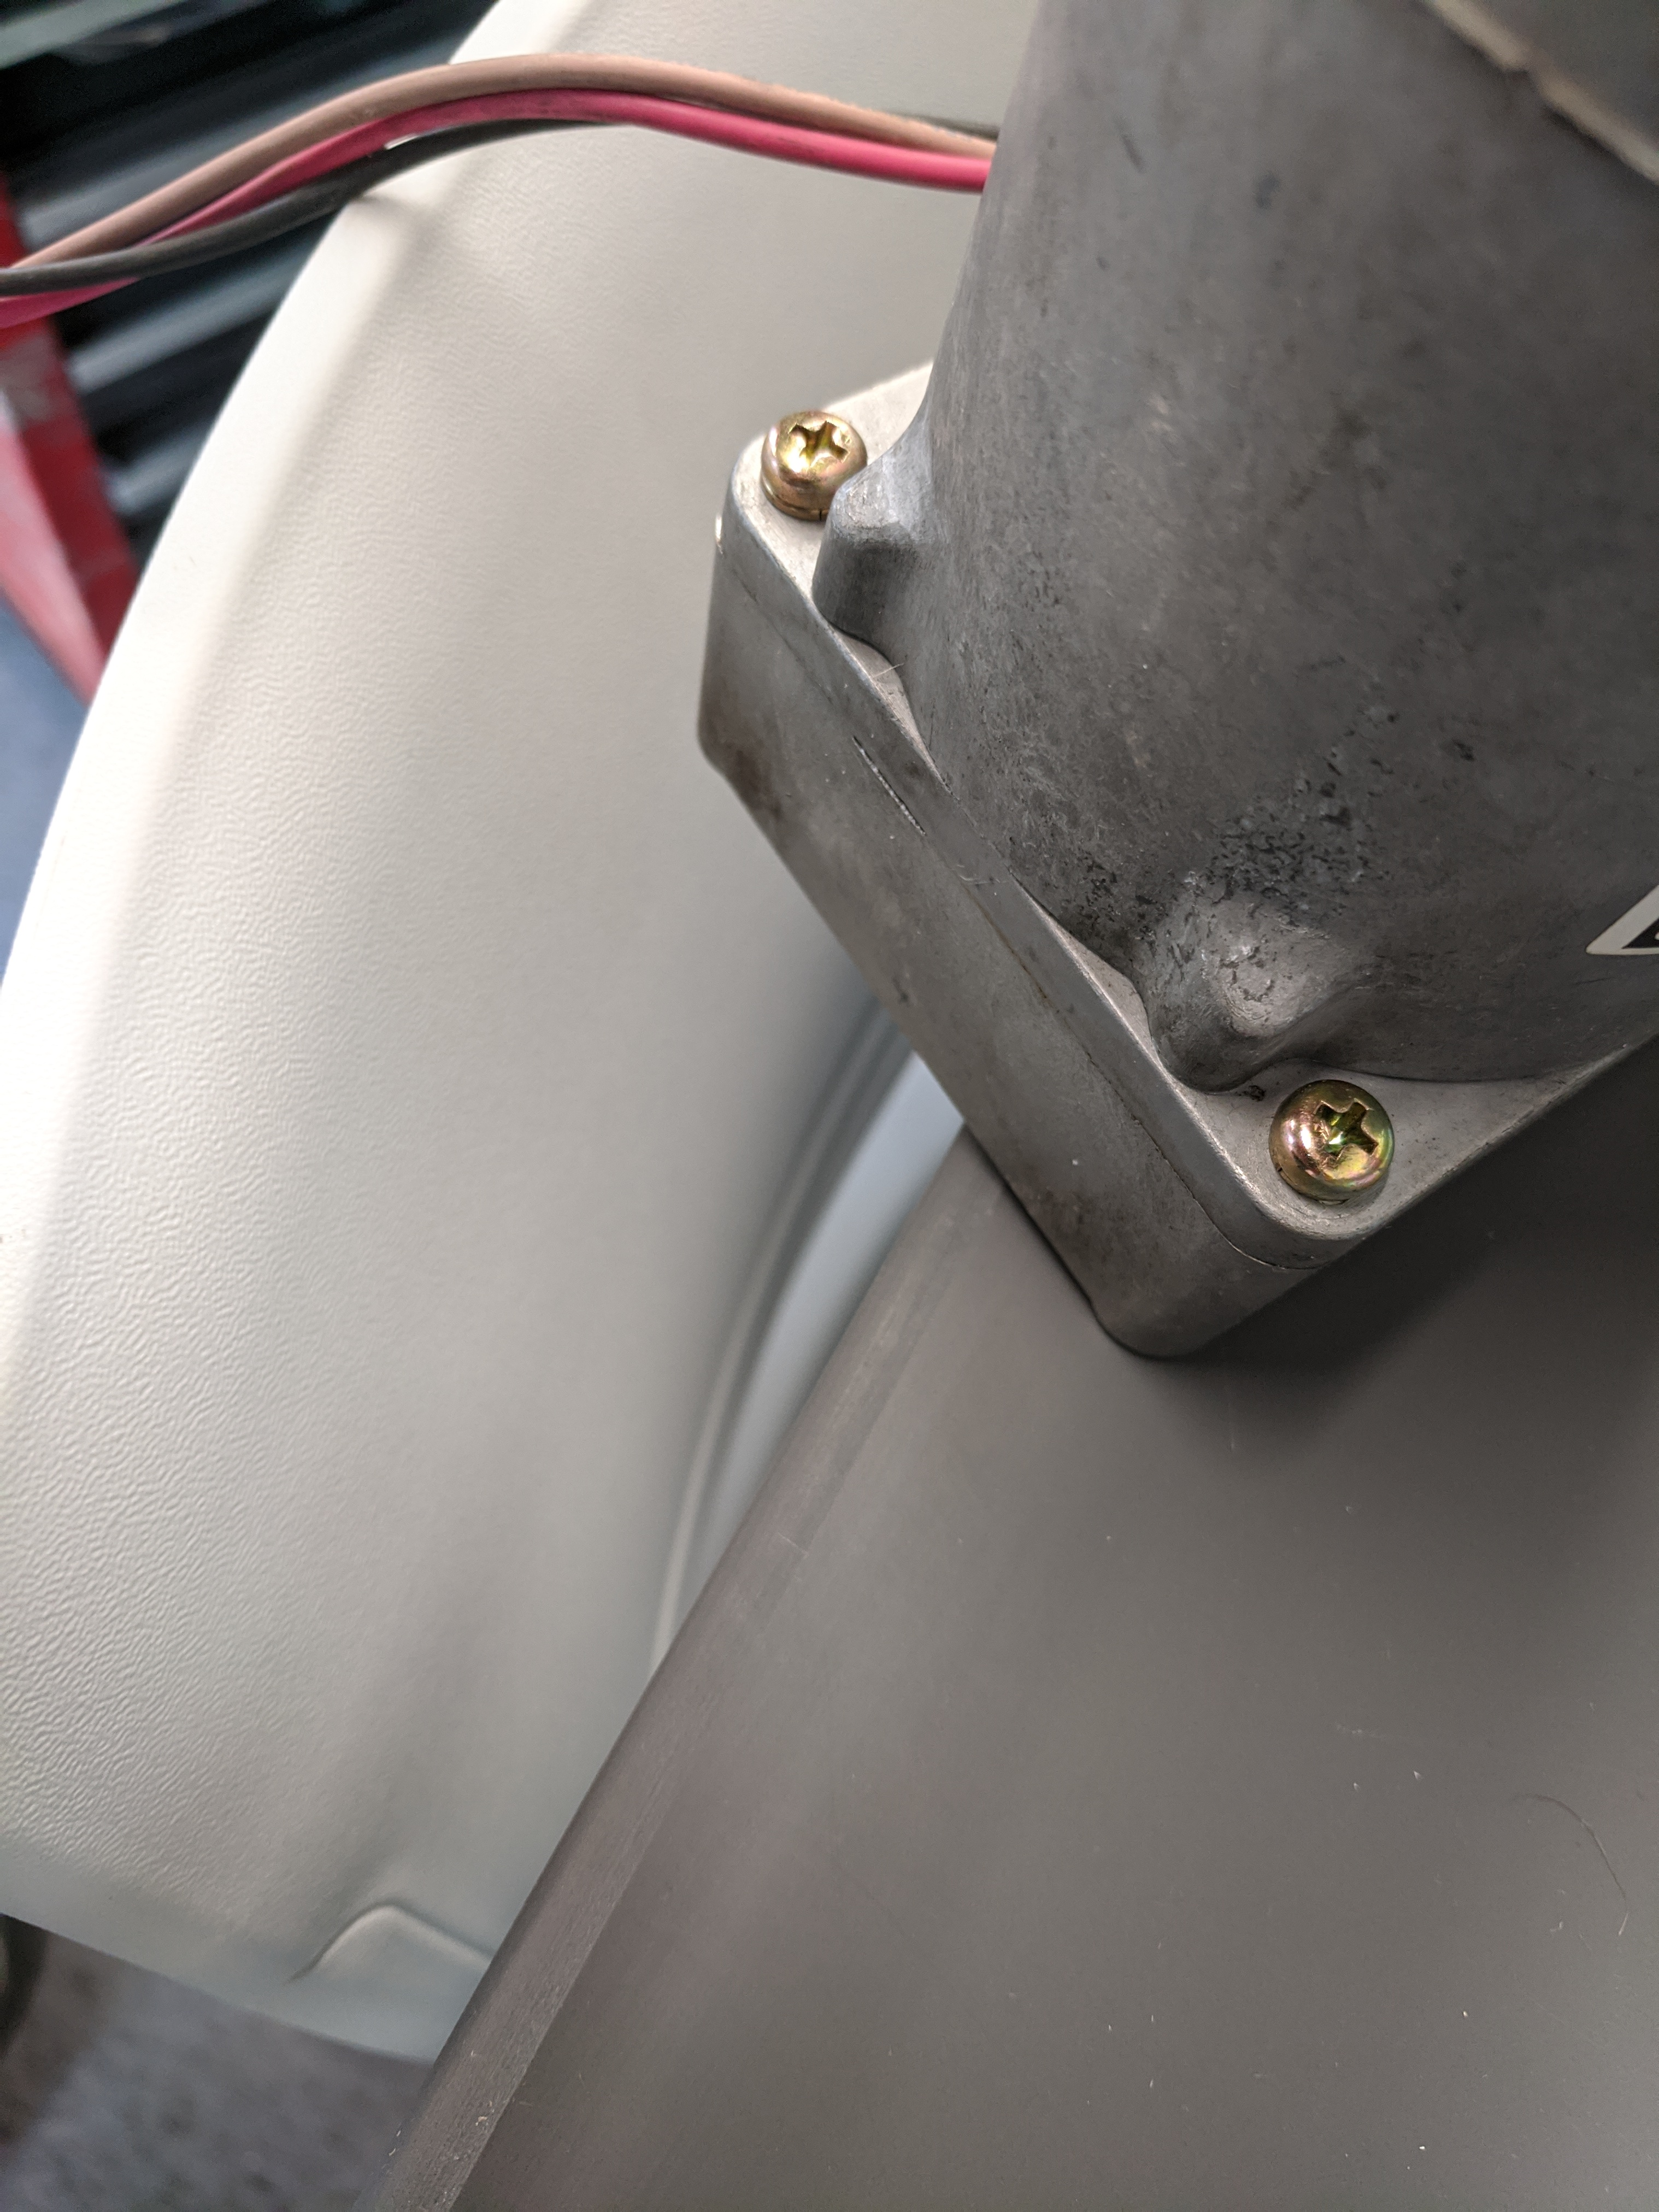cross_recessed_screw: (1251, 1042, 1403, 1204), (751, 385, 877, 507)
